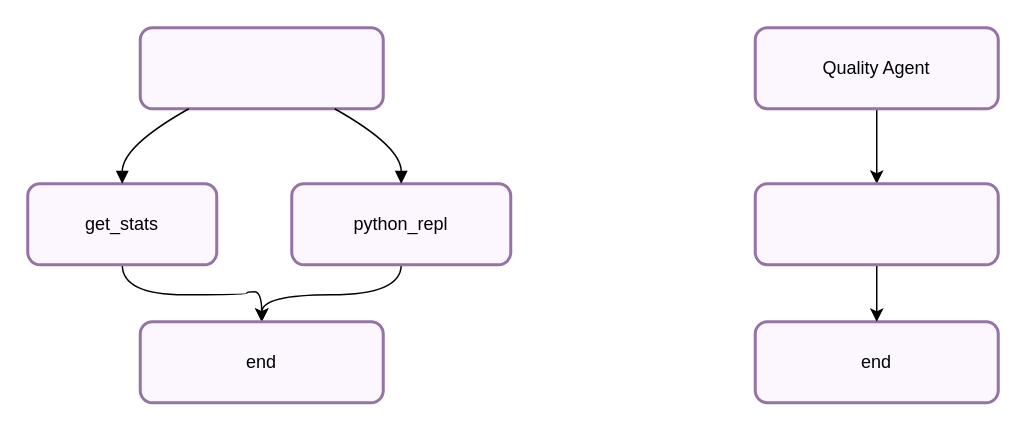
Some shapes in this 1025 by 429 pixel diagram are drawn without their labels. The shapes that lost their labels are listed below. From the top down, each one's box as (x1, y1, x2, y2) in pixels, then its label:
(138, 26, 384, 110): Analysis Agent
(753, 182, 999, 266): access_quality
